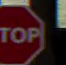Stop: (0, 3, 48, 64)
